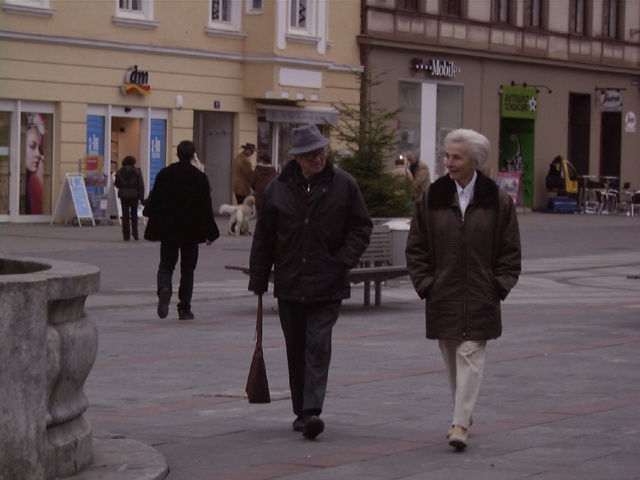person: (251, 124, 375, 440), (412, 127, 524, 449), (146, 135, 219, 322), (228, 140, 259, 234), (115, 153, 142, 238)
